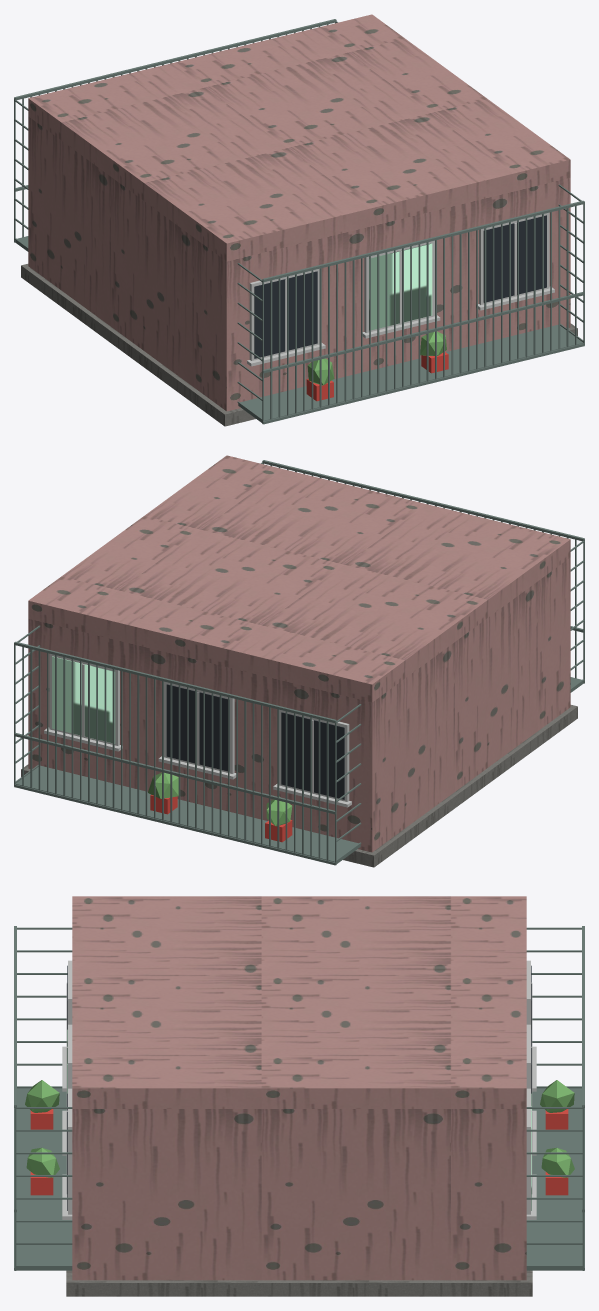
The model's file is floor_pink.glb.
3 views of the same model, one above another, from view 1: azimuth 30°, elevation 25°; view 2: azimuth 150°, elevation 25°; view 3: azimuth 270°, elevation 25° (orthographic). The views are drawn at different scales.
Parts seen in each view (by area): view 1: floor_pink; view 2: floor_pink; view 3: floor_pink.
Boxes of the visible parts, <box> form: floor_pink: <box>14,14,584,426</box>; floor_pink: <box>14,455,584,867</box>; floor_pink: <box>14,896,584,1296</box>.
Bounding box in the file's own units: 6.16 × 3 × 7.54.
8 materials, 3 textured.
